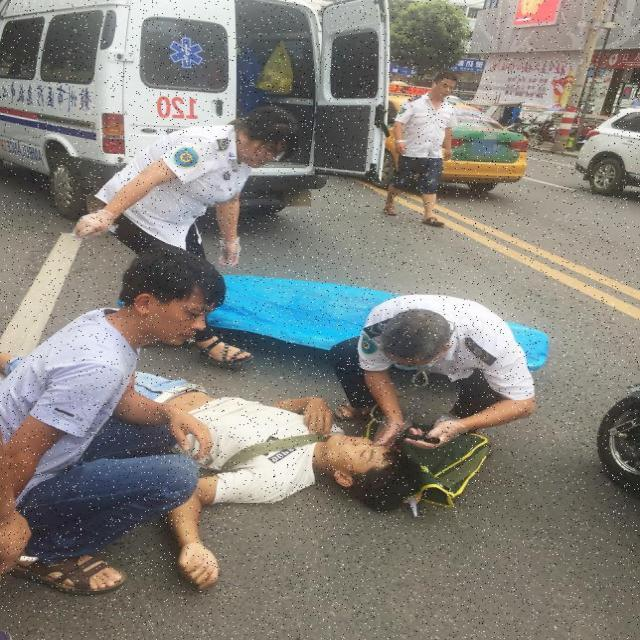fall: (1, 349, 412, 517)
